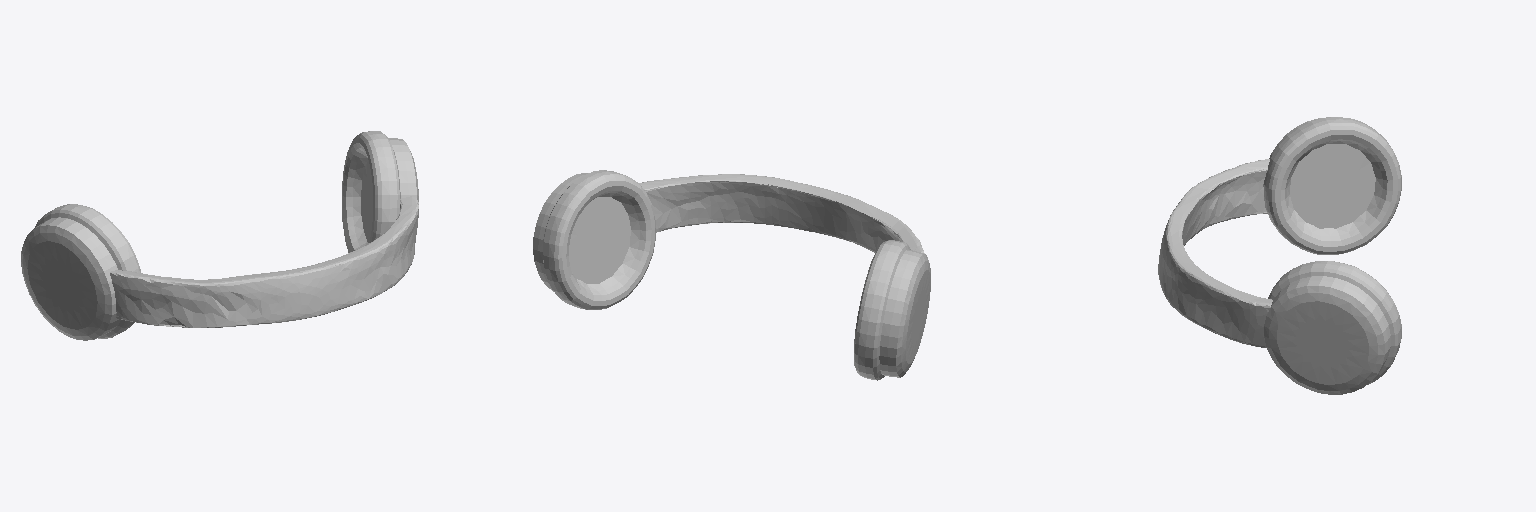
The model's file is head.obj.
3 views of the same model, side by side, from view 1: azimuth 30°, elevation 25°; view 2: azimuth 150°, elevation 25°; view 3: azimuth 270°, elevation 25° (orthographic).
Visible parts, largest first — view 1: rdmobj00; view 2: rdmobj00; view 3: rdmobj00.
Part boxes in pixels (bbox=[...]): rdmobj00: bbox=[21, 131, 418, 340]; rdmobj00: bbox=[533, 170, 930, 380]; rdmobj00: bbox=[1158, 117, 1401, 394].
Bounding box in the file's own units: 21.56 × 7.15 × 12.33.